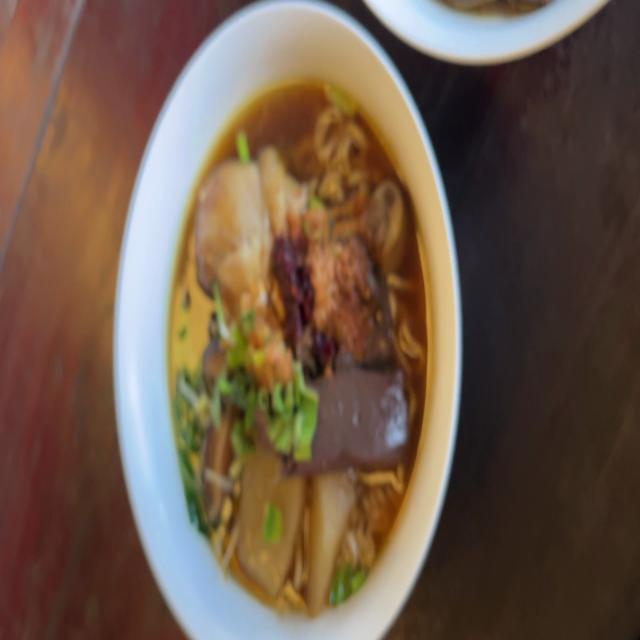noodle: (311, 376, 407, 463), (351, 266, 392, 362)
